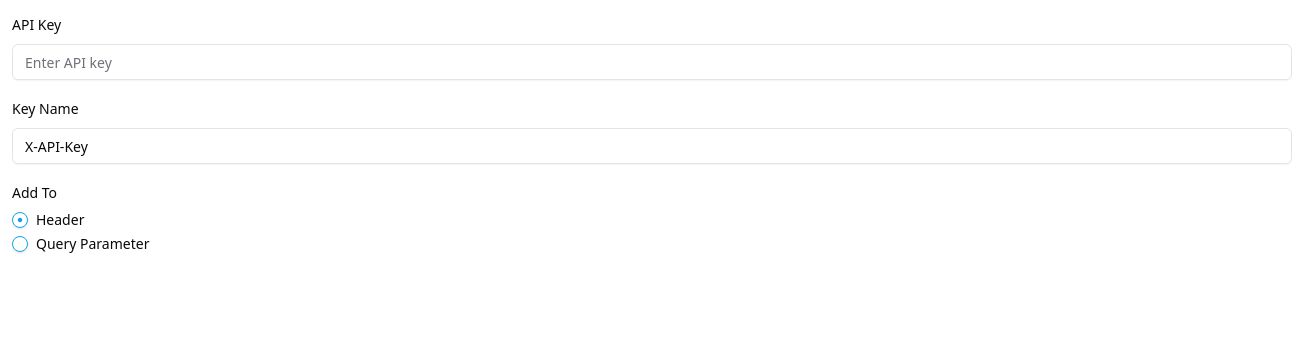
Test case: APIKeyAuth › should update example when placement is changed to query
Type "abc123" into the field with placeholder "Enter API key" at point(652, 62), box x1=12 y1=44 x2=1292 y2=80
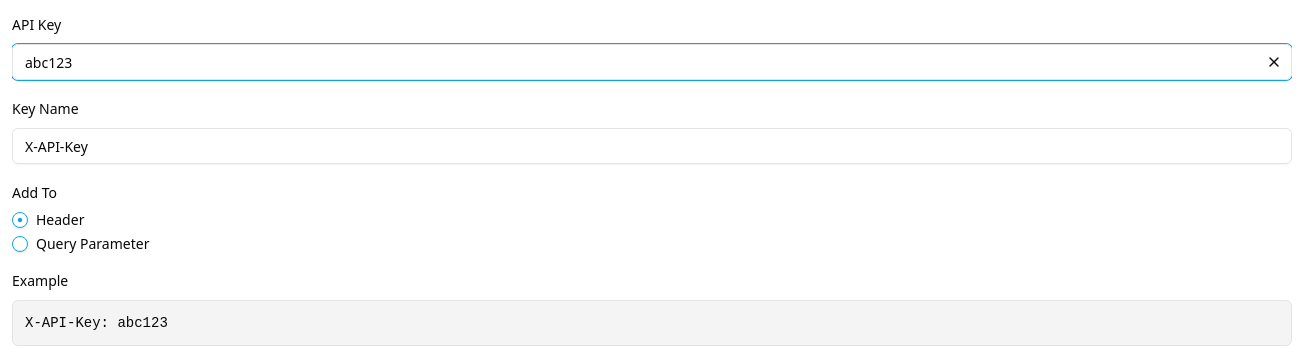
Click the radio button named "query parameter" next to "Query Parameter" at point(20, 244), box x1=12 y1=236 x2=28 y2=252
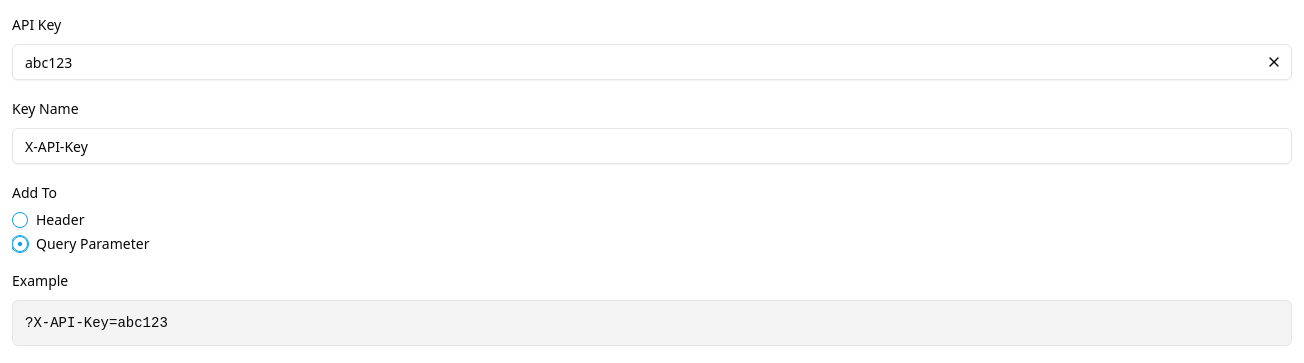
Result: the text "?X-API-Key=abc123" is shown at x1=12 y1=300 x2=1292 y2=346
